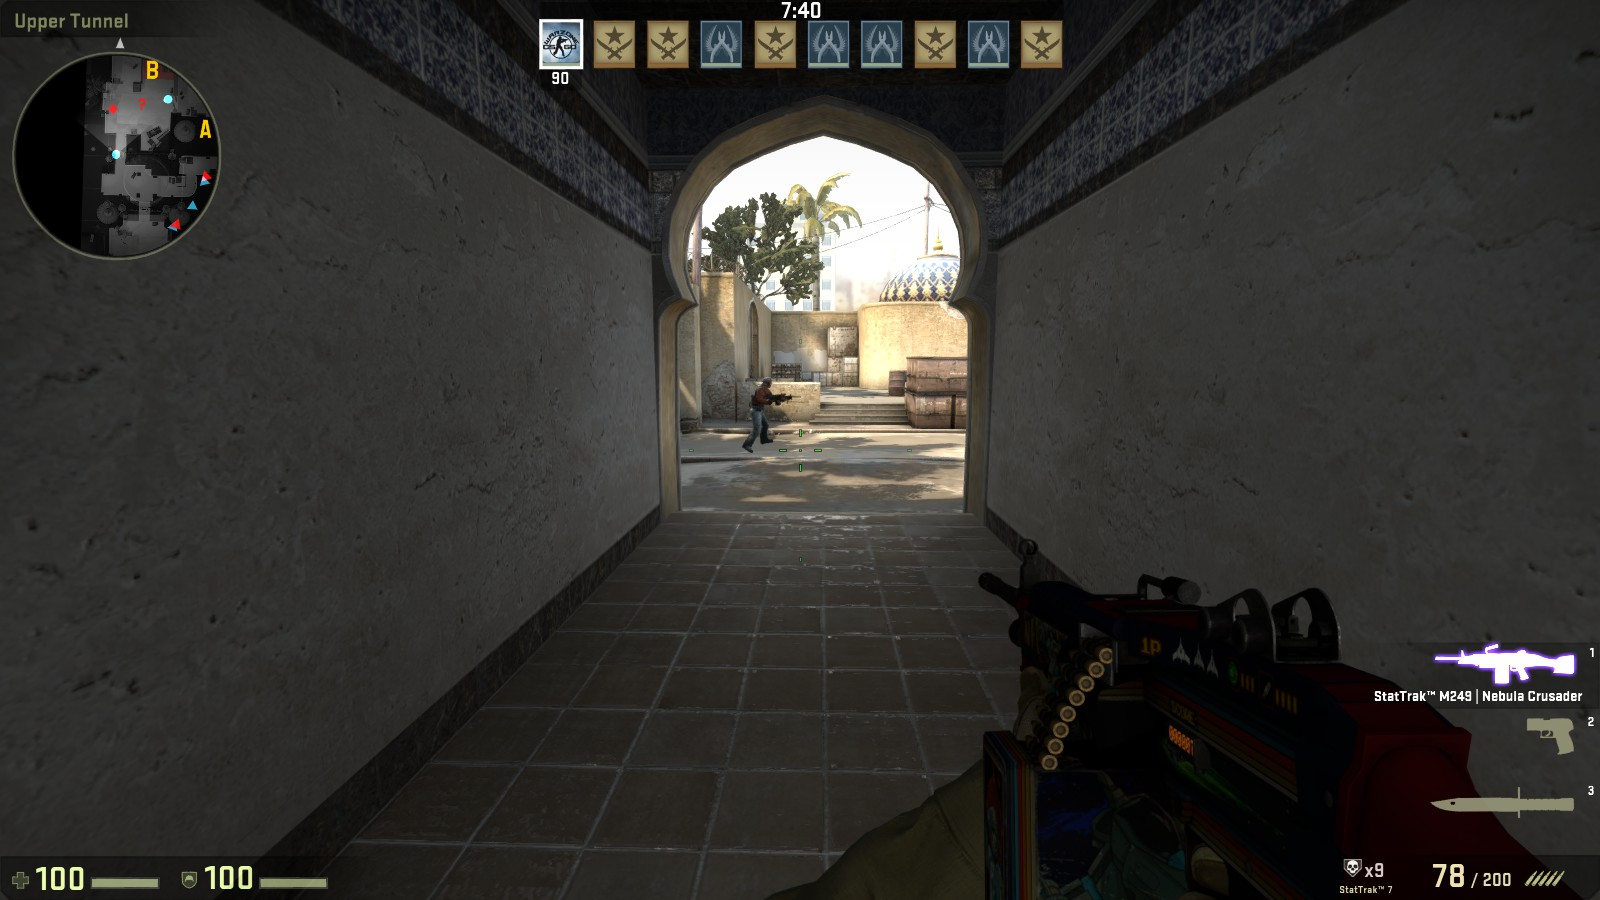t: (749, 375, 775, 449)
th: (760, 376, 774, 391)
